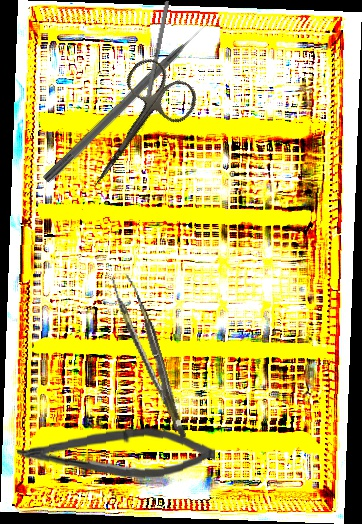Iris Scissors: (63, 52, 205, 207)
Micro Scissor: (15, 422, 217, 487)
Pusher: (41, 17, 216, 186), (139, 0, 170, 133)
Tissue Forceps: (110, 269, 187, 445)
